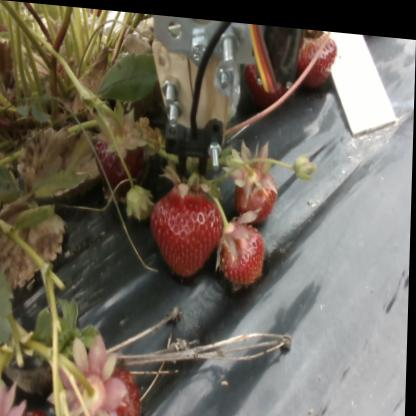ripe: (149, 180, 228, 278), (75, 352, 148, 416), (221, 216, 269, 286), (96, 128, 143, 189), (234, 163, 278, 221), (296, 24, 339, 83)
